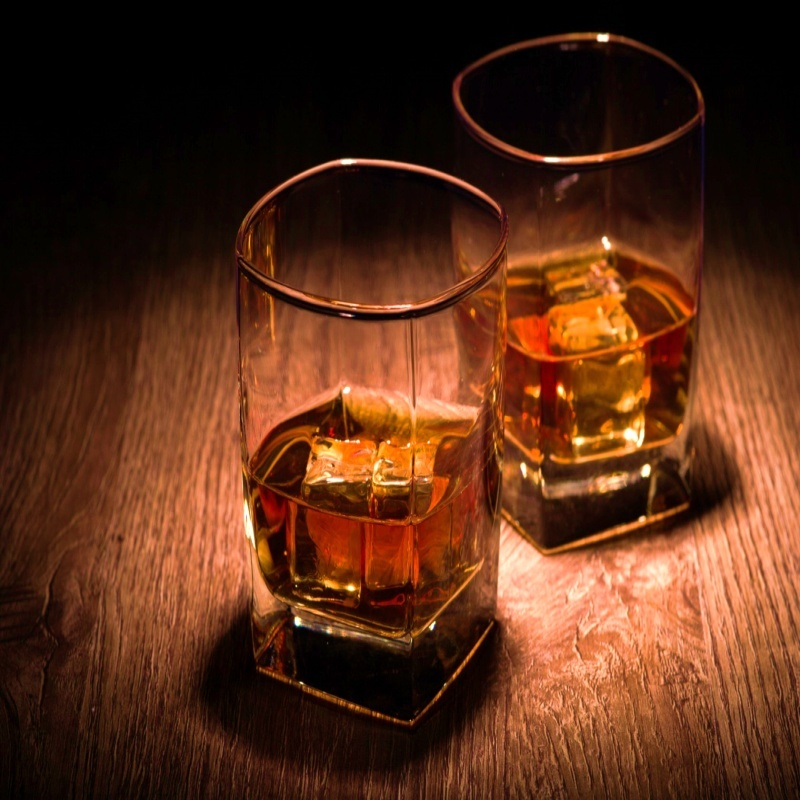whiskey: (236, 133, 500, 722), (461, 13, 711, 554)
